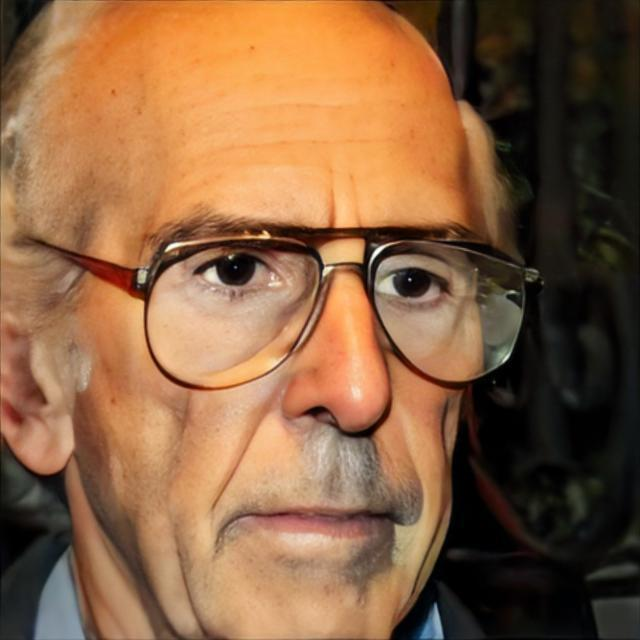anger: (100, 62, 504, 640)
